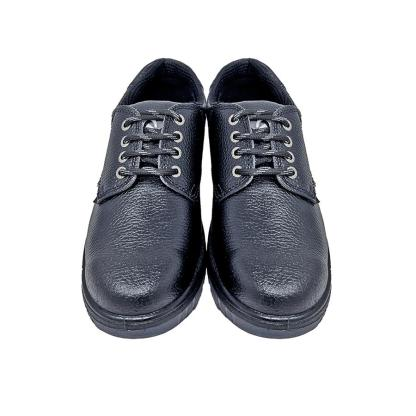bota: (77, 55, 208, 342), (208, 54, 335, 344)
